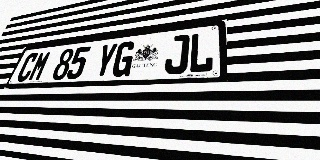5: (65, 46, 91, 79)
8: (50, 48, 76, 80)
C: (15, 52, 40, 82)
G: (110, 40, 137, 77)
J: (163, 34, 190, 75)
L: (187, 31, 214, 73)
M: (27, 51, 52, 81)
Y: (92, 43, 119, 78)
